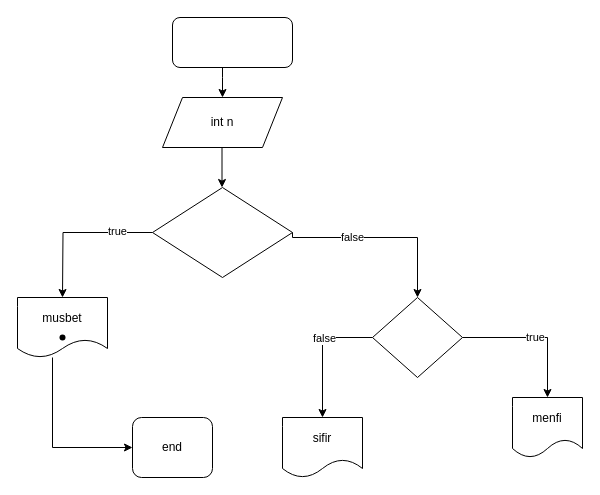
This 600x495 diagram has some shape labels left out. The shapes that lost their labels are listed below. From the top down, each one's centre as x and y in pixels, then its label:
At point 232,42: "Start".
At point 222,232: "n>0".
At point 417,337: "n<0".
